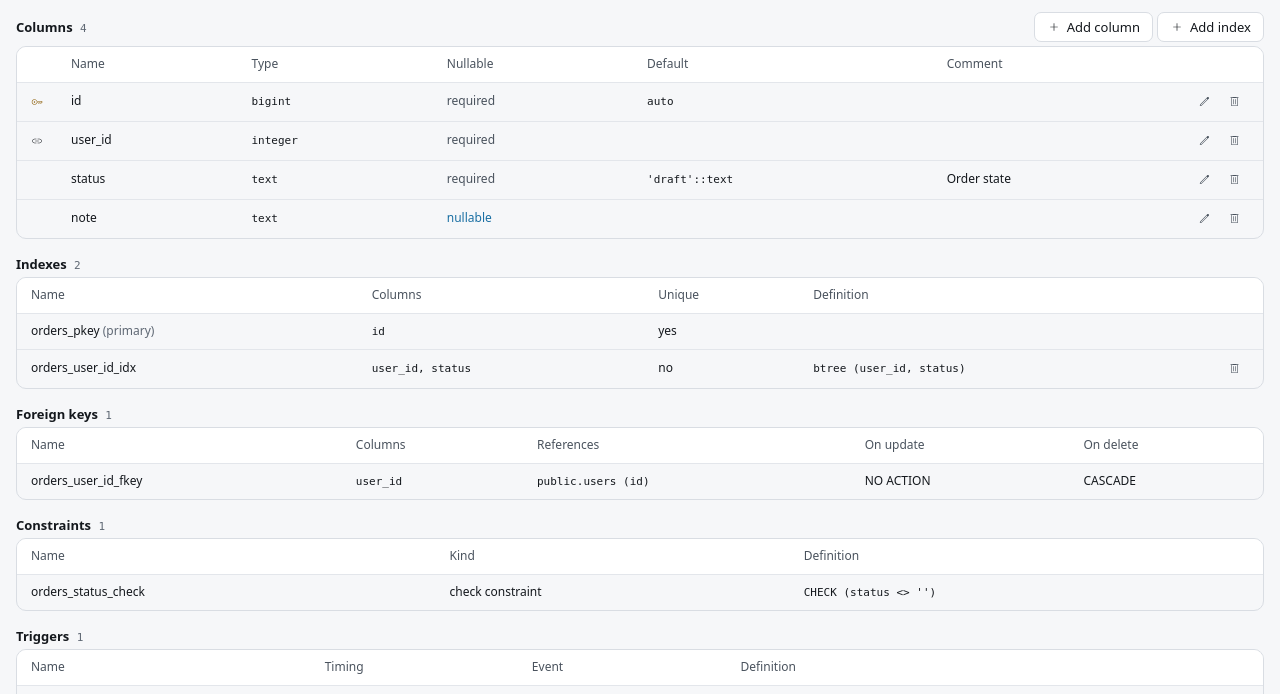
Test: StructureView › removes a staged new column without touching other changes
This screenshot has width=1280, height=694.
Click the button named "Drop note" at (1234, 219), box [1219, 204, 1249, 234]
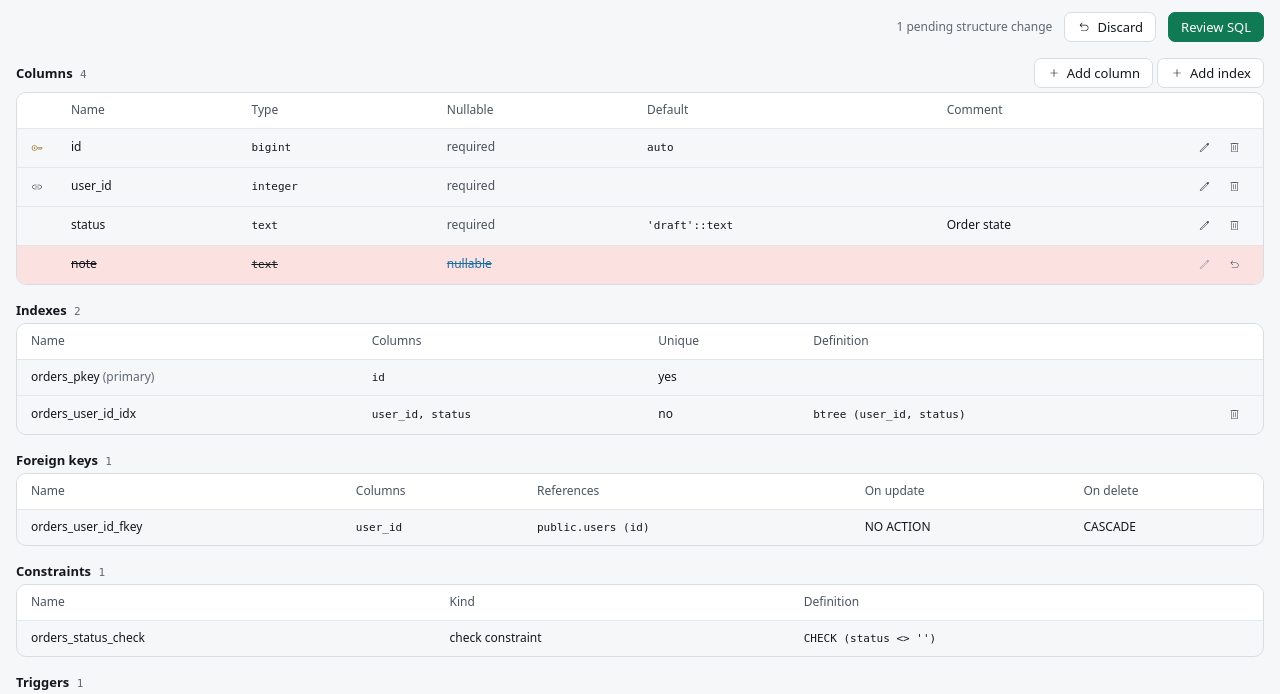
Click the button "Add column" at (1093, 73), box [1034, 58, 1153, 88]
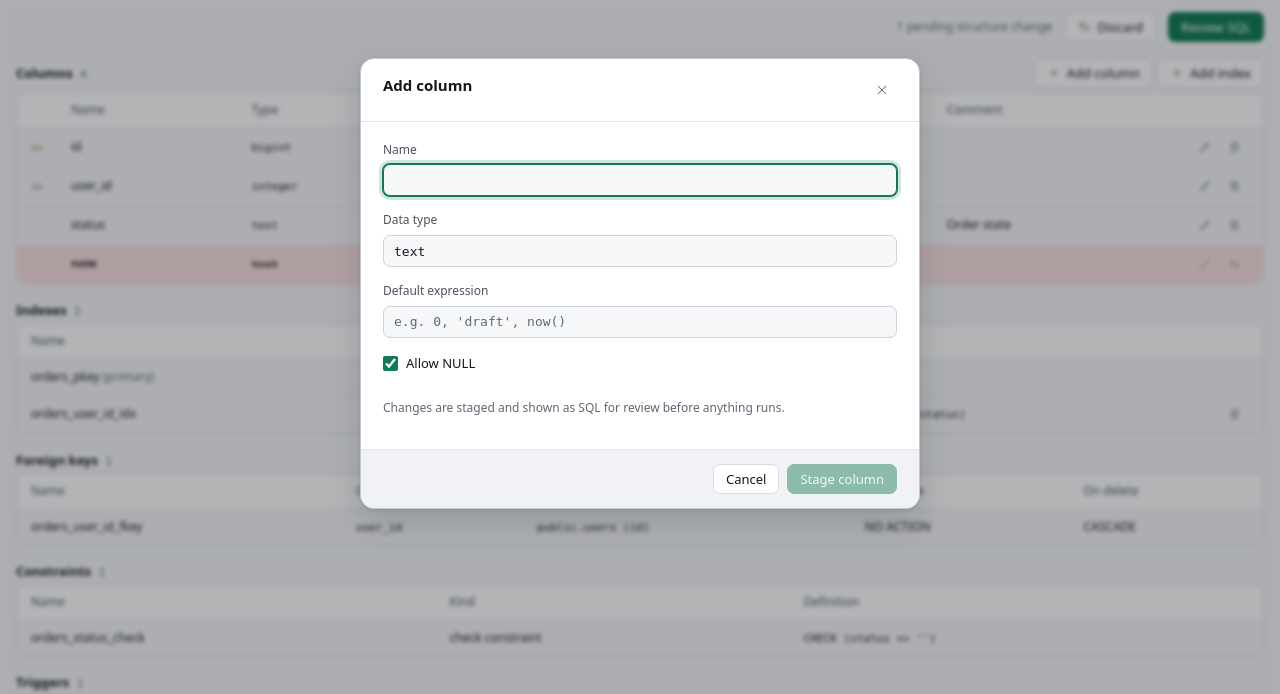
Type "total" into the field labelled "Name" at (640, 180), box [383, 164, 897, 196]
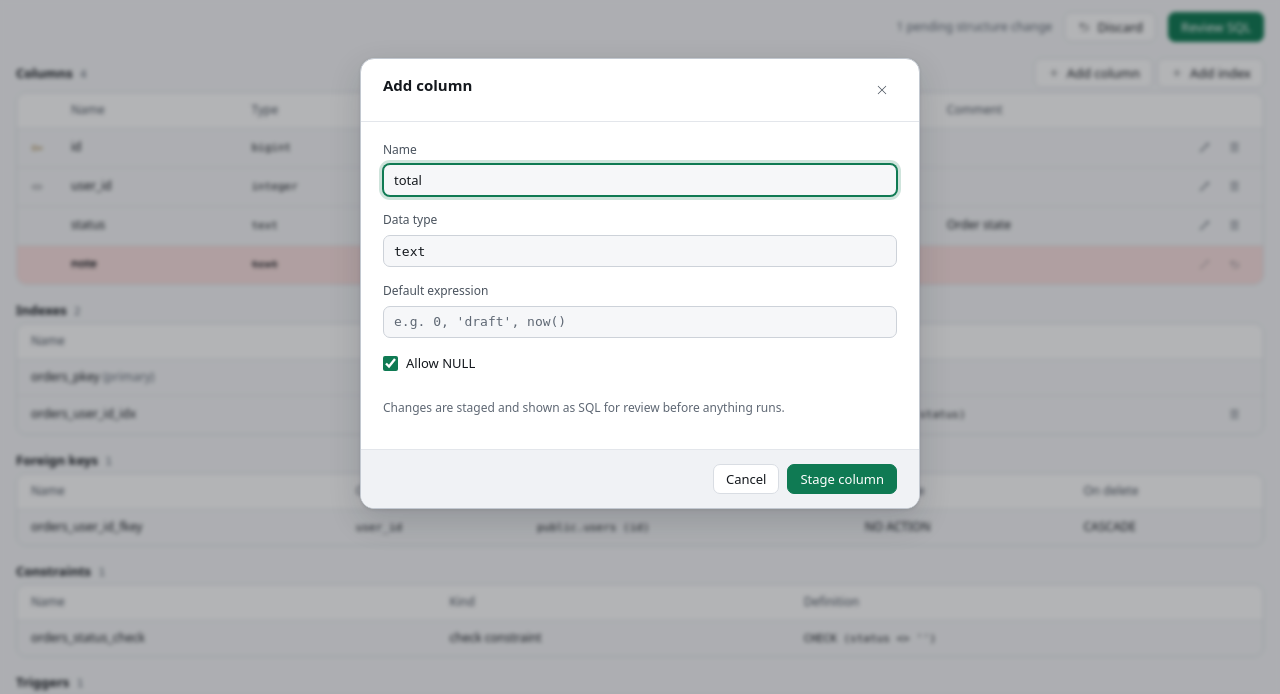
Click the button "Stage column" at (842, 479), box [788, 464, 897, 494]
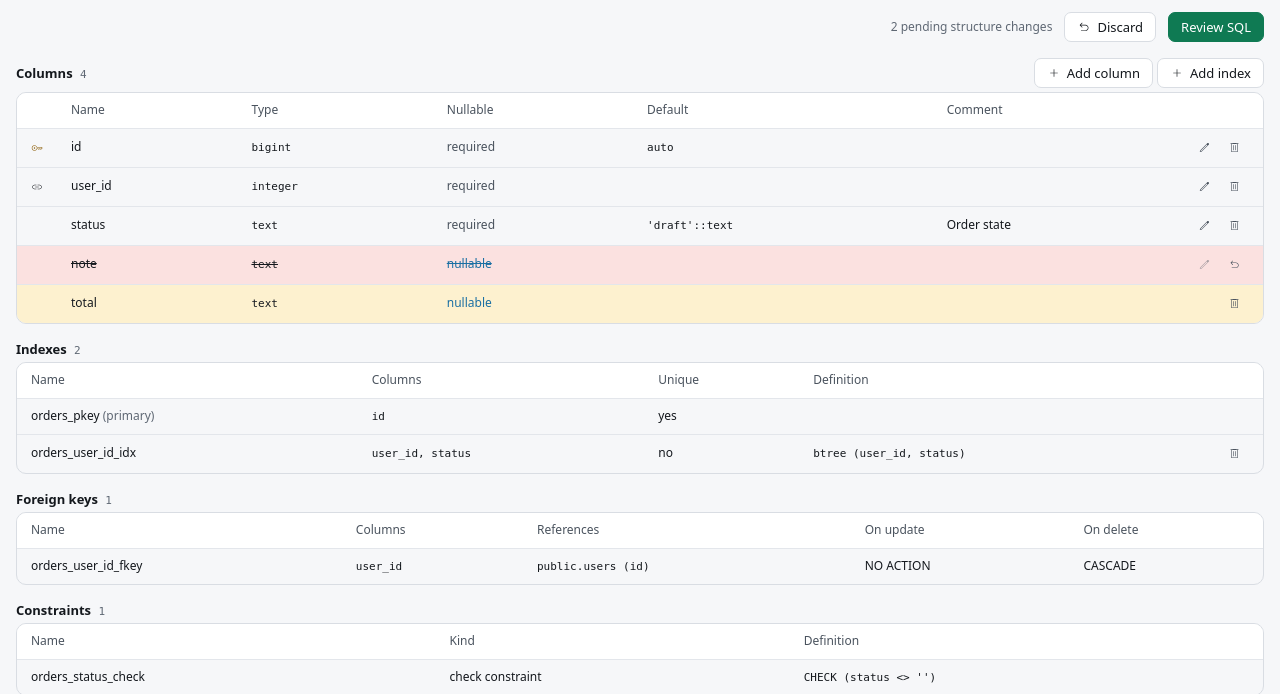
Check: the text "2 pending structure changes" is shown, box [891, 19, 1052, 35]
Click the button named "Remove new column" at (1234, 304), box [1219, 289, 1249, 319]
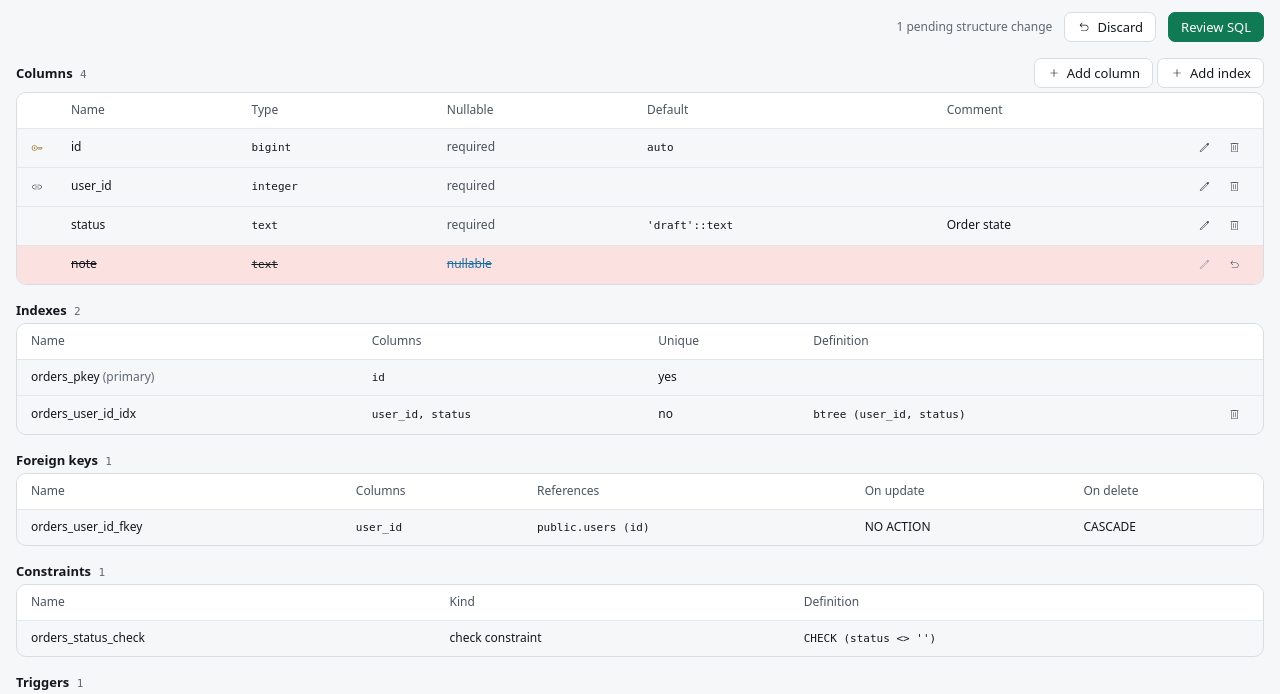
Check: the cell "total" is gone
Check: the text "1 pending structure change" is shown, box [896, 19, 1052, 35]
